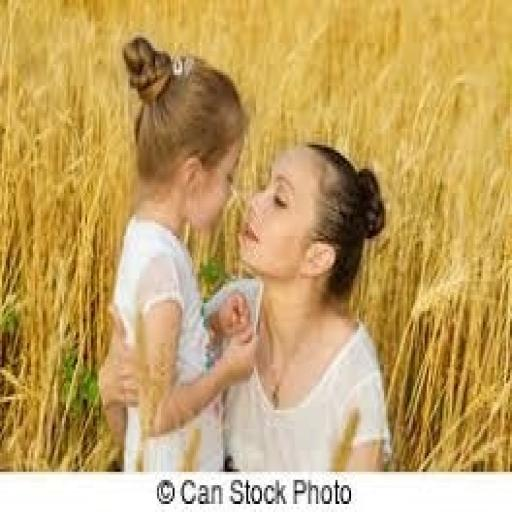hugging: (97, 32, 260, 472)
